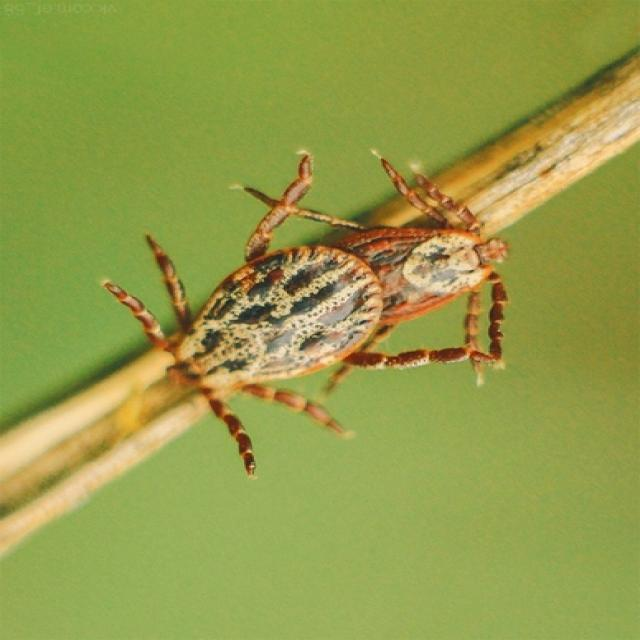Dermacentor Reticulatus-F: (244, 157, 508, 361)
Dermacentor Reticulatus-M: (104, 154, 473, 479)
